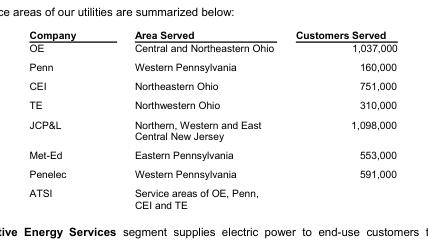table: (28, 28, 396, 210)
table column: (104, 28, 284, 210), (284, 28, 396, 210), (28, 28, 104, 210)
table column header: (28, 28, 396, 41)
table row: (28, 114, 396, 145), (28, 183, 396, 210), (28, 57, 396, 76), (28, 76, 396, 95), (28, 95, 396, 114), (28, 145, 396, 164), (28, 164, 396, 183), (28, 41, 396, 57), (28, 28, 396, 41)
